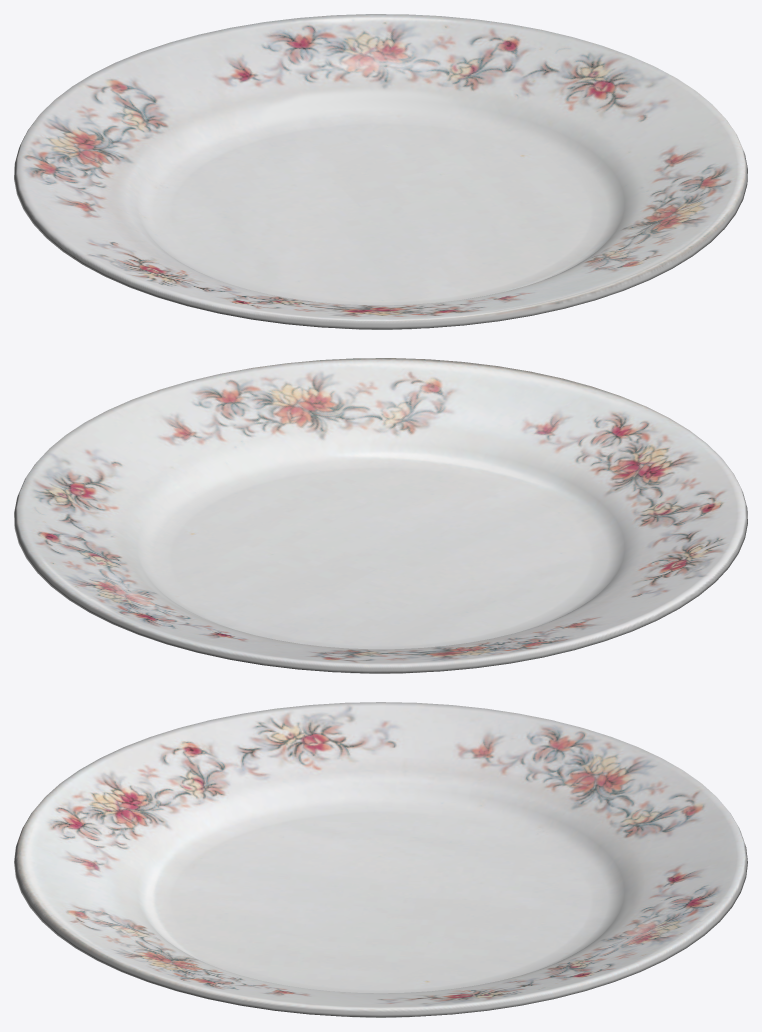
Rendered from SM_WhitePorcelainDish207.fbx.
3 renders of one model, top to bottom at view 1: azimuth 30°, elevation 25°; view 2: azimuth 150°, elevation 25°; view 3: azimuth 270°, elevation 25°, orthographic.
Parts seen in each view (by area): view 1: SM_WhitePorcelainDish207; view 2: SM_WhitePorcelainDish207; view 3: SM_WhitePorcelainDish207.
Part boxes in pixels (left/top/right/bottom): SM_WhitePorcelainDish207: left=14, top=14, right=747, bottom=329; SM_WhitePorcelainDish207: left=14, top=358, right=747, bottom=673; SM_WhitePorcelainDish207: left=14, top=702, right=747, bottom=1017.
Bounding box in the file's own units: 20.68 × 1.92 × 20.68.
Materials: 1 (1 with a texture image).
